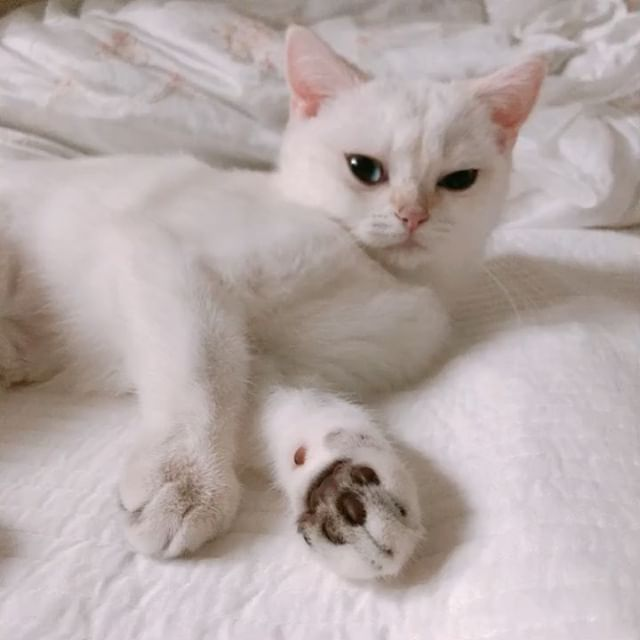cat: (281, 17, 551, 283)
